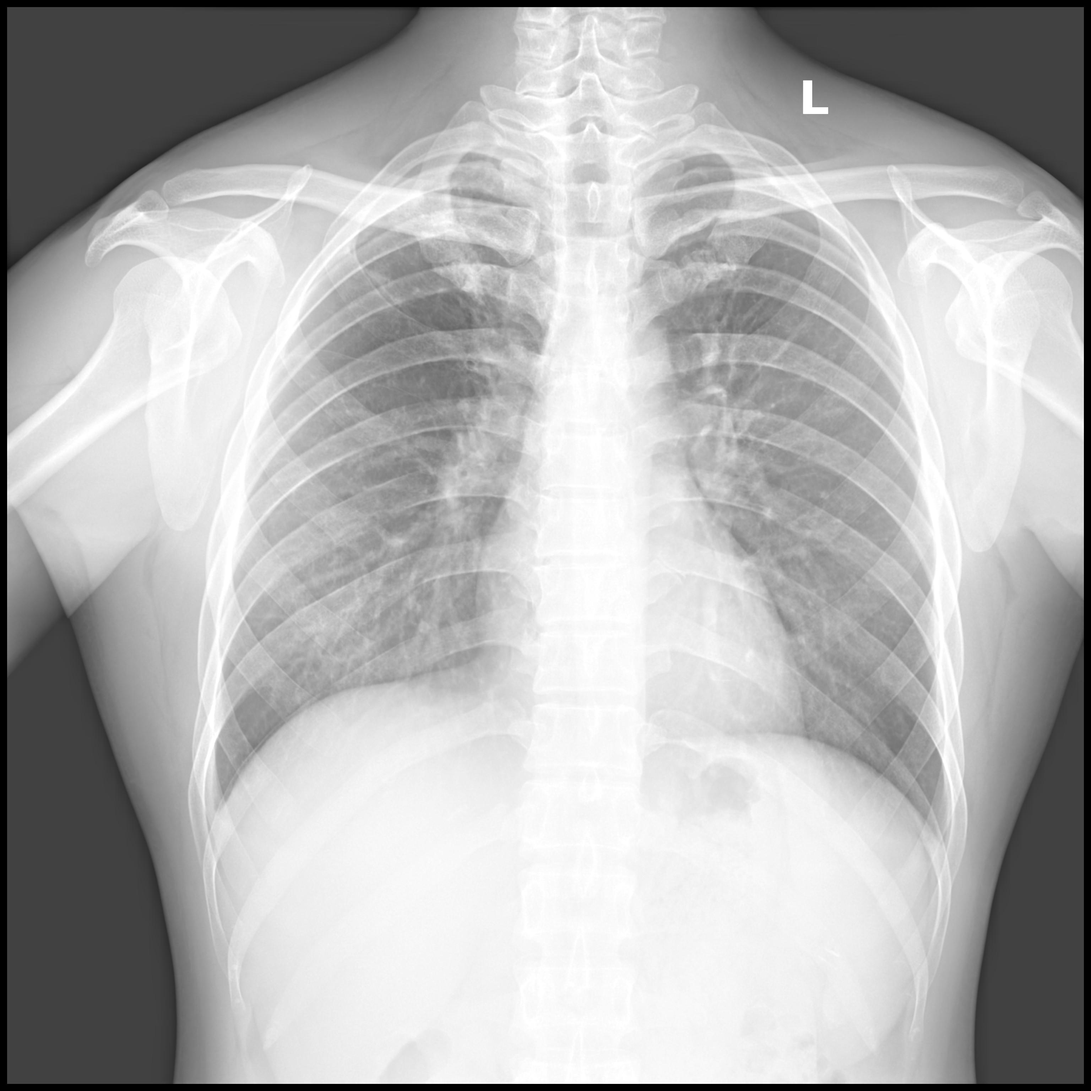Pleural thickening: (679, 145, 763, 169)
